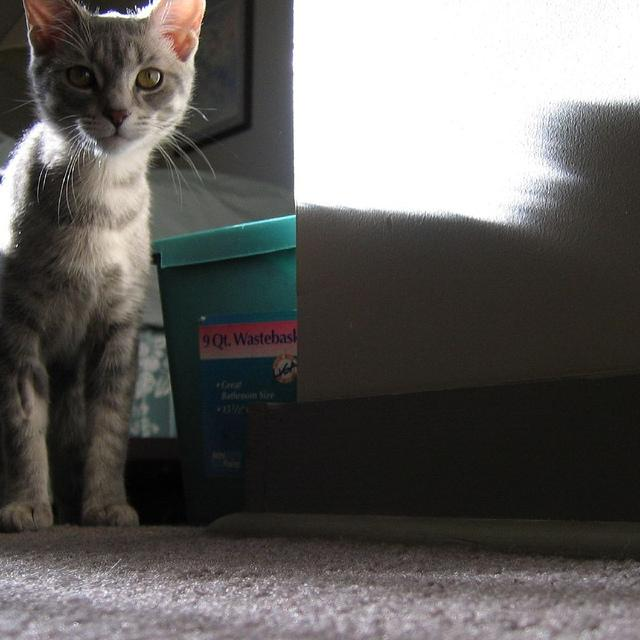animals: (30, 0, 198, 125)
